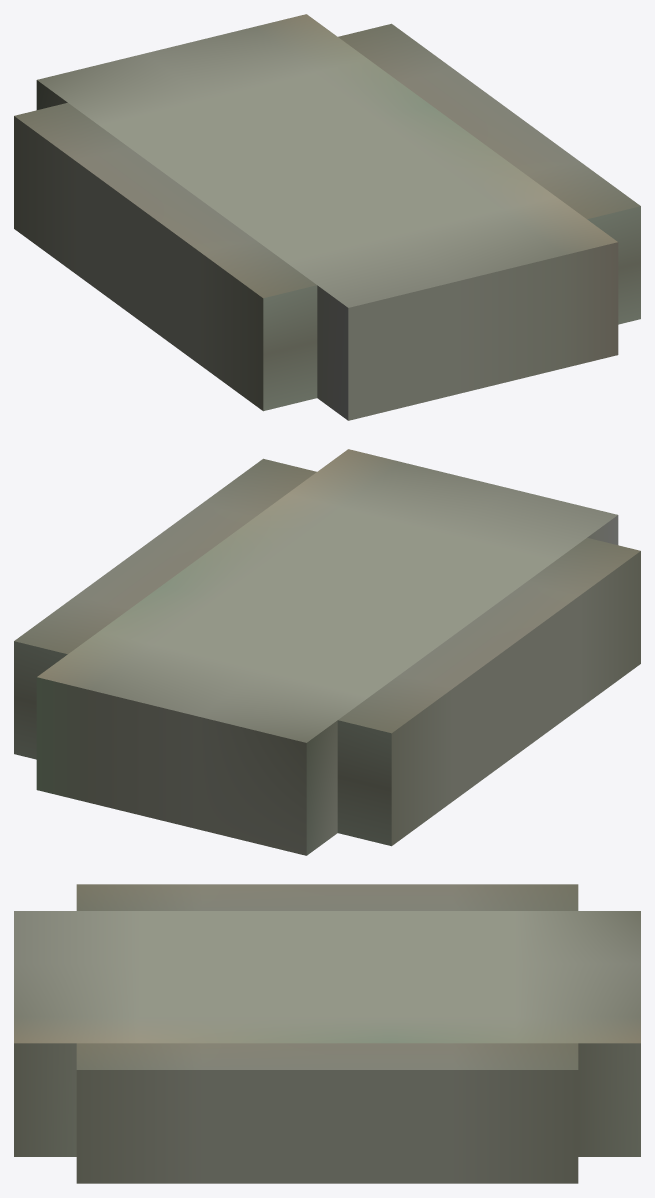
File: PillowGrey_01.fbx
3 renders of one model, top to bottom at view 1: azimuth 30°, elevation 25°; view 2: azimuth 150°, elevation 25°; view 3: azimuth 270°, elevation 25°, orthographic.
Parts seen in each view (by area): view 1: PillowGrey_01; view 2: PillowGrey_01; view 3: PillowGrey_01.
Boxes of the visible parts, x1,y1,x2,y2 form: PillowGrey_01: (14,14,640,420); PillowGrey_01: (14,449,640,855); PillowGrey_01: (14,884,640,1183).
Bounding box in the file's own units: 35 × 50 × 10.
1 material, 1 textured.
